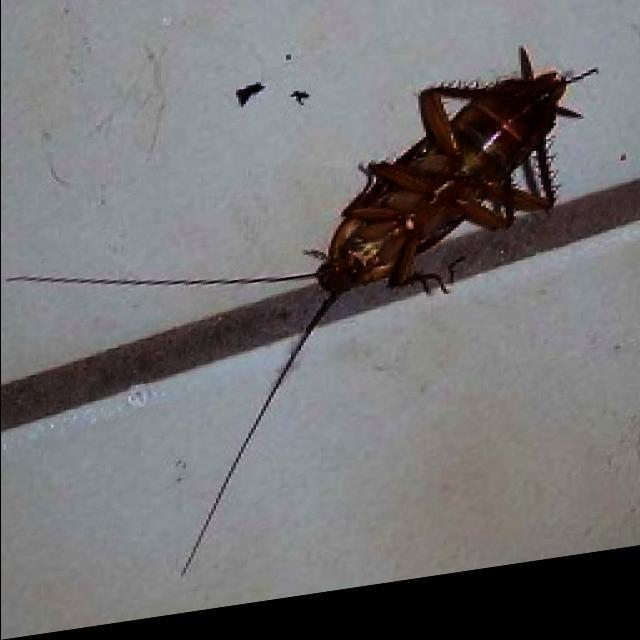cockroach: (271, 22, 618, 350)
